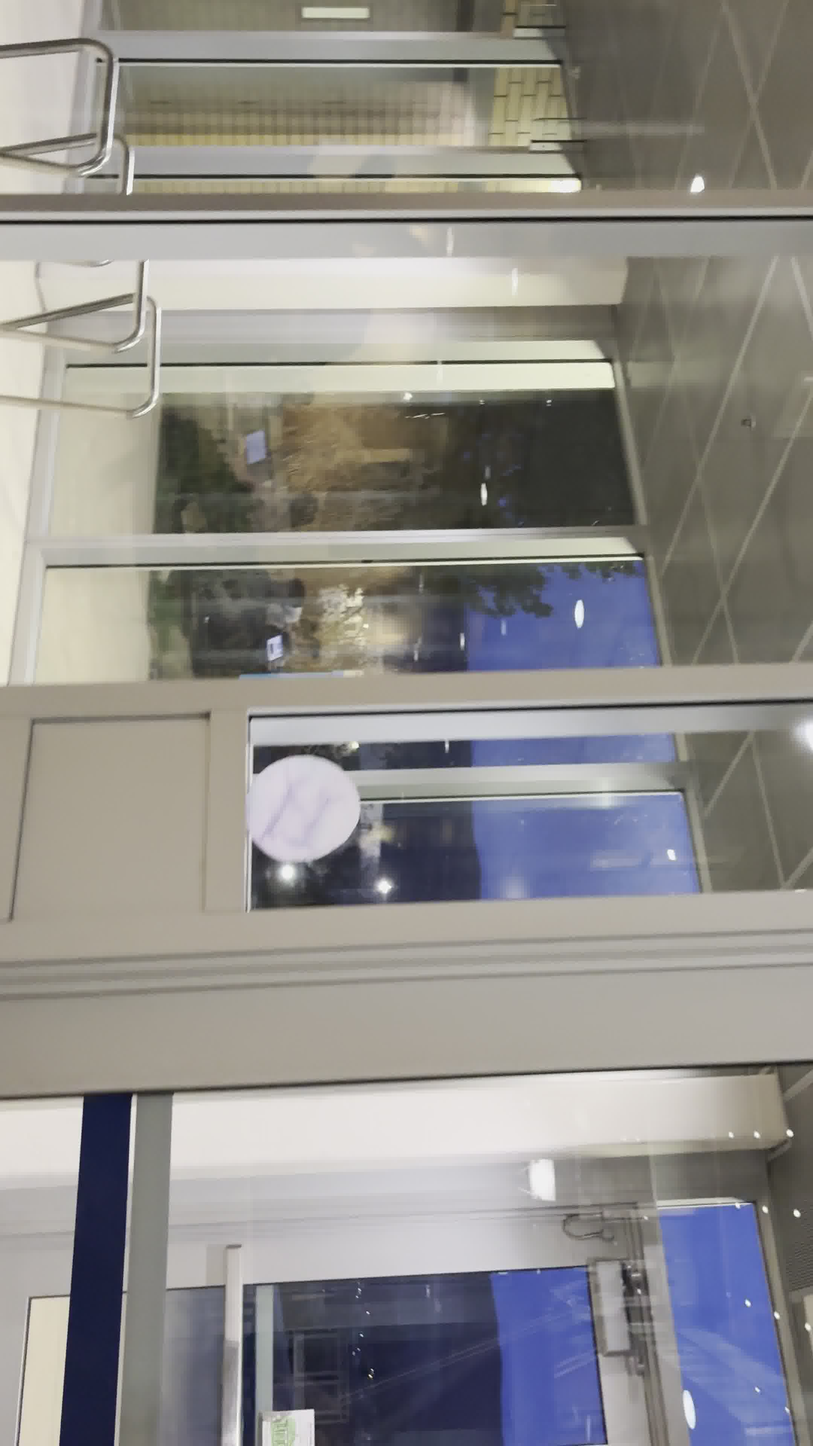Target: (244, 754, 361, 864)
